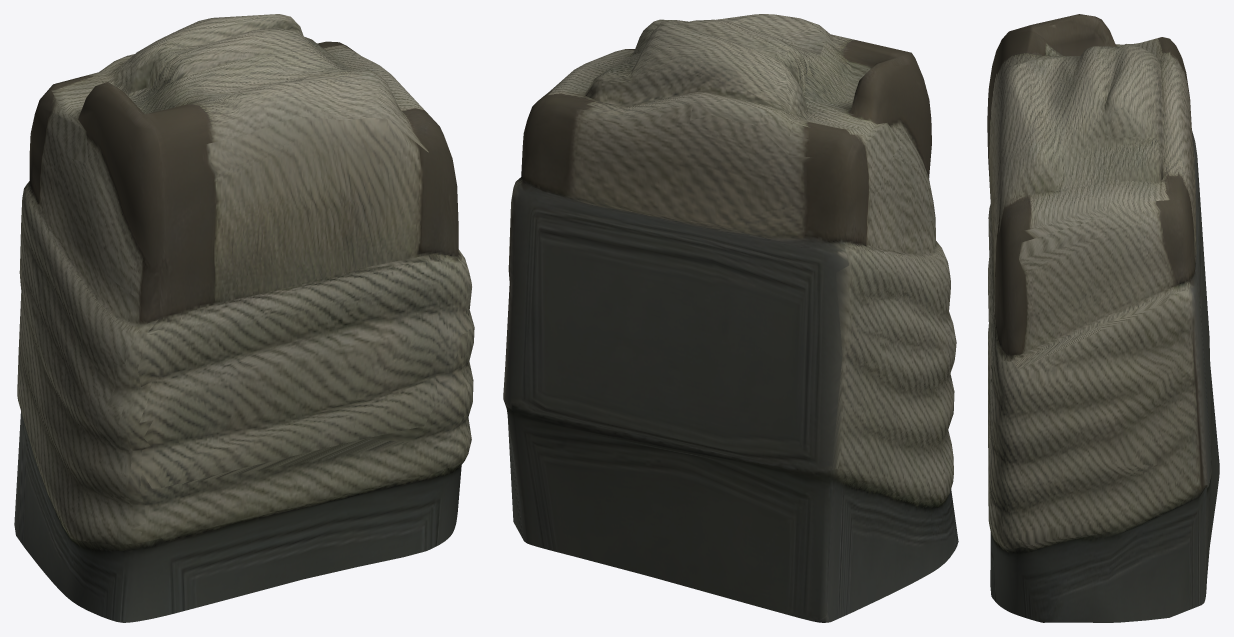
File: WrappedCore-Mated-LOD1.glb
3 views of the same model, side by side, from view 1: azimuth 30°, elevation 25°; view 2: azimuth 150°, elevation 25°; view 3: azimuth 270°, elevation 25° (orthographic). The views are drawn at different scales.
Parts seen in each view (by area): view 1: WrappedCore_Joined_LOD1; view 2: WrappedCore_Joined_LOD1; view 3: WrappedCore_Joined_LOD1.
Boxes of the visible parts, <box> form: WrappedCore_Joined_LOD1: <box>14,14,474,622</box>; WrappedCore_Joined_LOD1: <box>503,14,958,622</box>; WrappedCore_Joined_LOD1: <box>987,14,1219,622</box>.
Bounding box in the file's own units: 0.0141 × 0.018 × 0.00801.
1 material, 1 textured.
